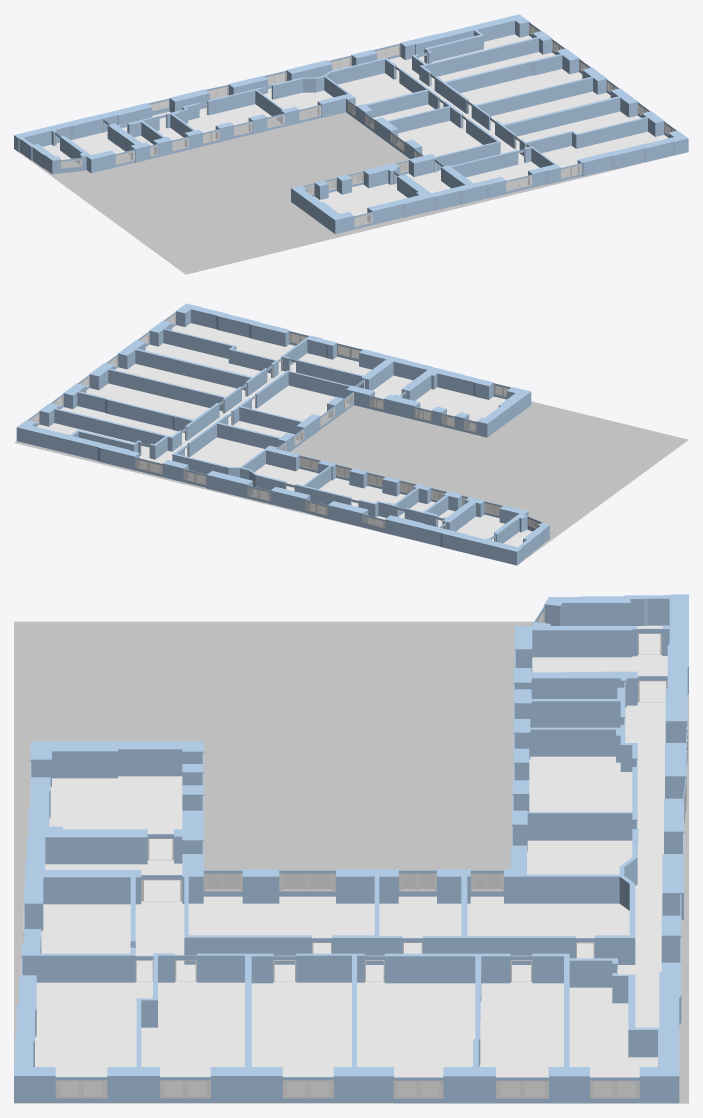
File: 5thfloor.glb
The picture shows the model from 3 angles, top to bottom: view 1: azimuth 30°, elevation 25°; view 2: azimuth 150°, elevation 25°; view 3: azimuth 270°, elevation 25°; orthographic projection. The views are drawn at different scales.
Visible parts, largest first — view 1: ground_1, room_427_2514, room_432_2524, room_452_2546, room_428_2516, wall_290_1738, wall_335_2008, wall_303_1816, room_453_2548, room_424_2508, room_431_2522, room_420_2500 (+35 smaller); view 2: ground_1, room_452_2546, room_427_2514, room_432_2524, wall_309_1852, wall_296_1774, room_428_2516, room_453_2548, wall_345_2068, room_424_2508, room_431_2522, room_430_2520 (+43 smaller); view 3: ground_1, room_421_2502, room_432_2524, room_428_2516, room_431_2522, room_430_2520, room_423_2506, room_452_2546, room_427_2514, room_422_2504, room_424_2508, room_420_2500 (+60 smaller).
Boxes of the visible parts, x1,y1,x2,y2 form: ground_1: [19, 79, 674, 274]; room_427_2514: [395, 120, 482, 156]; room_432_2524: [460, 69, 582, 116]; room_452_2546: [314, 183, 407, 225]; room_428_2516: [542, 131, 667, 176]; wall_290_1738: [505, 98, 620, 136]; wall_335_2008: [424, 39, 538, 77]; wall_303_1816: [478, 78, 592, 116]; room_453_2548: [367, 150, 517, 211]; room_424_2508: [338, 73, 412, 114]; room_431_2522: [491, 91, 610, 133]; room_420_2500: [186, 104, 280, 141]; ground_1: [14, 371, 688, 561]; room_452_2546: [415, 387, 506, 430]; room_427_2514: [254, 385, 348, 424]; room_432_2524: [86, 383, 222, 419]; wall_309_1852: [108, 370, 223, 410]; wall_296_1774: [135, 350, 249, 390]; room_428_2516: [172, 323, 294, 372]; room_453_2548: [296, 349, 493, 391]; wall_345_2068: [54, 410, 164, 444]; room_424_2508: [190, 437, 264, 466]; room_431_2522: [115, 364, 245, 399]; room_430_2520: [145, 343, 271, 381]; ground_1: [14, 621, 688, 1103]; room_421_2502: [135, 702, 684, 1027]; room_432_2524: [357, 982, 475, 1096]; room_428_2516: [35, 982, 152, 1096]; room_431_2522: [251, 982, 351, 1096]; room_430_2520: [141, 981, 244, 1096]; room_423_2506: [479, 982, 563, 1096]; room_452_2546: [49, 776, 182, 859]; room_427_2514: [188, 896, 374, 953]; room_422_2504: [569, 987, 657, 1096]; room_424_2508: [467, 896, 629, 958]; room_420_2500: [529, 756, 632, 811].
Bounding box in the file's own units: 9996 × 262 × 5916.
